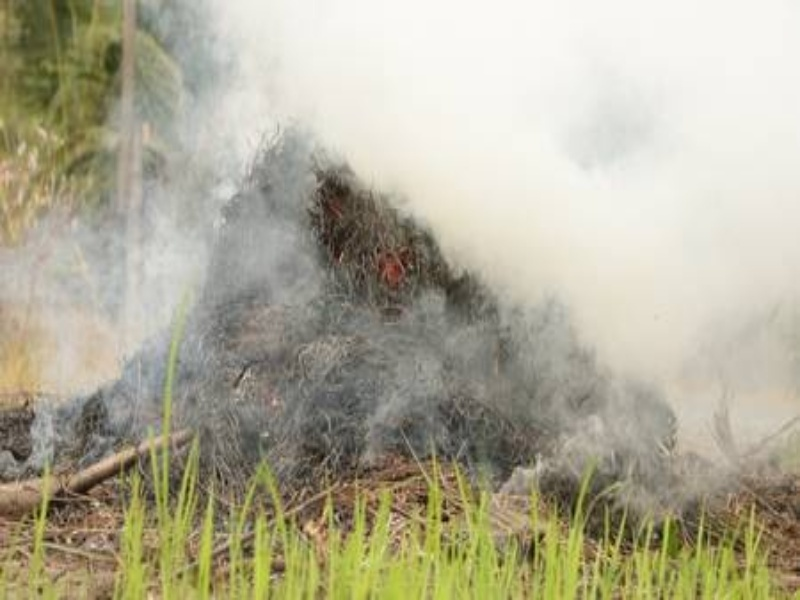smoke: (178, 1, 797, 444)
